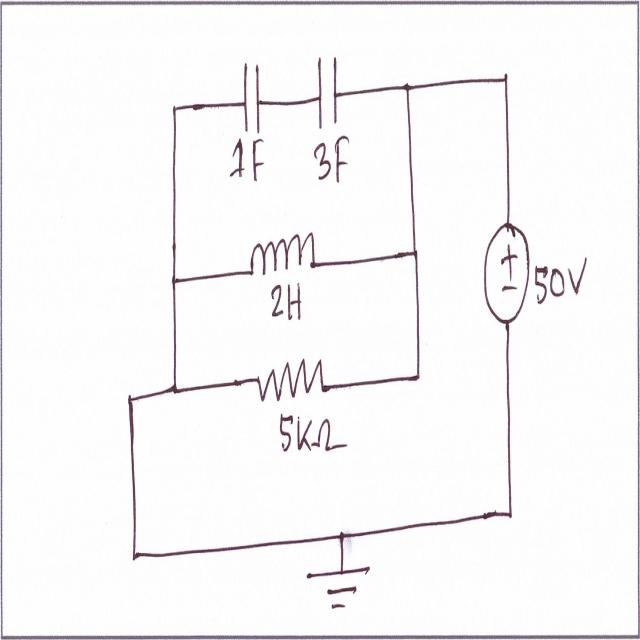capacitor: (313, 47, 342, 139), (241, 51, 263, 142)
ground: (301, 556, 372, 613)
inductor: (247, 220, 322, 284)
resistor: (253, 348, 329, 410)
voltage_source: (482, 210, 531, 326)
